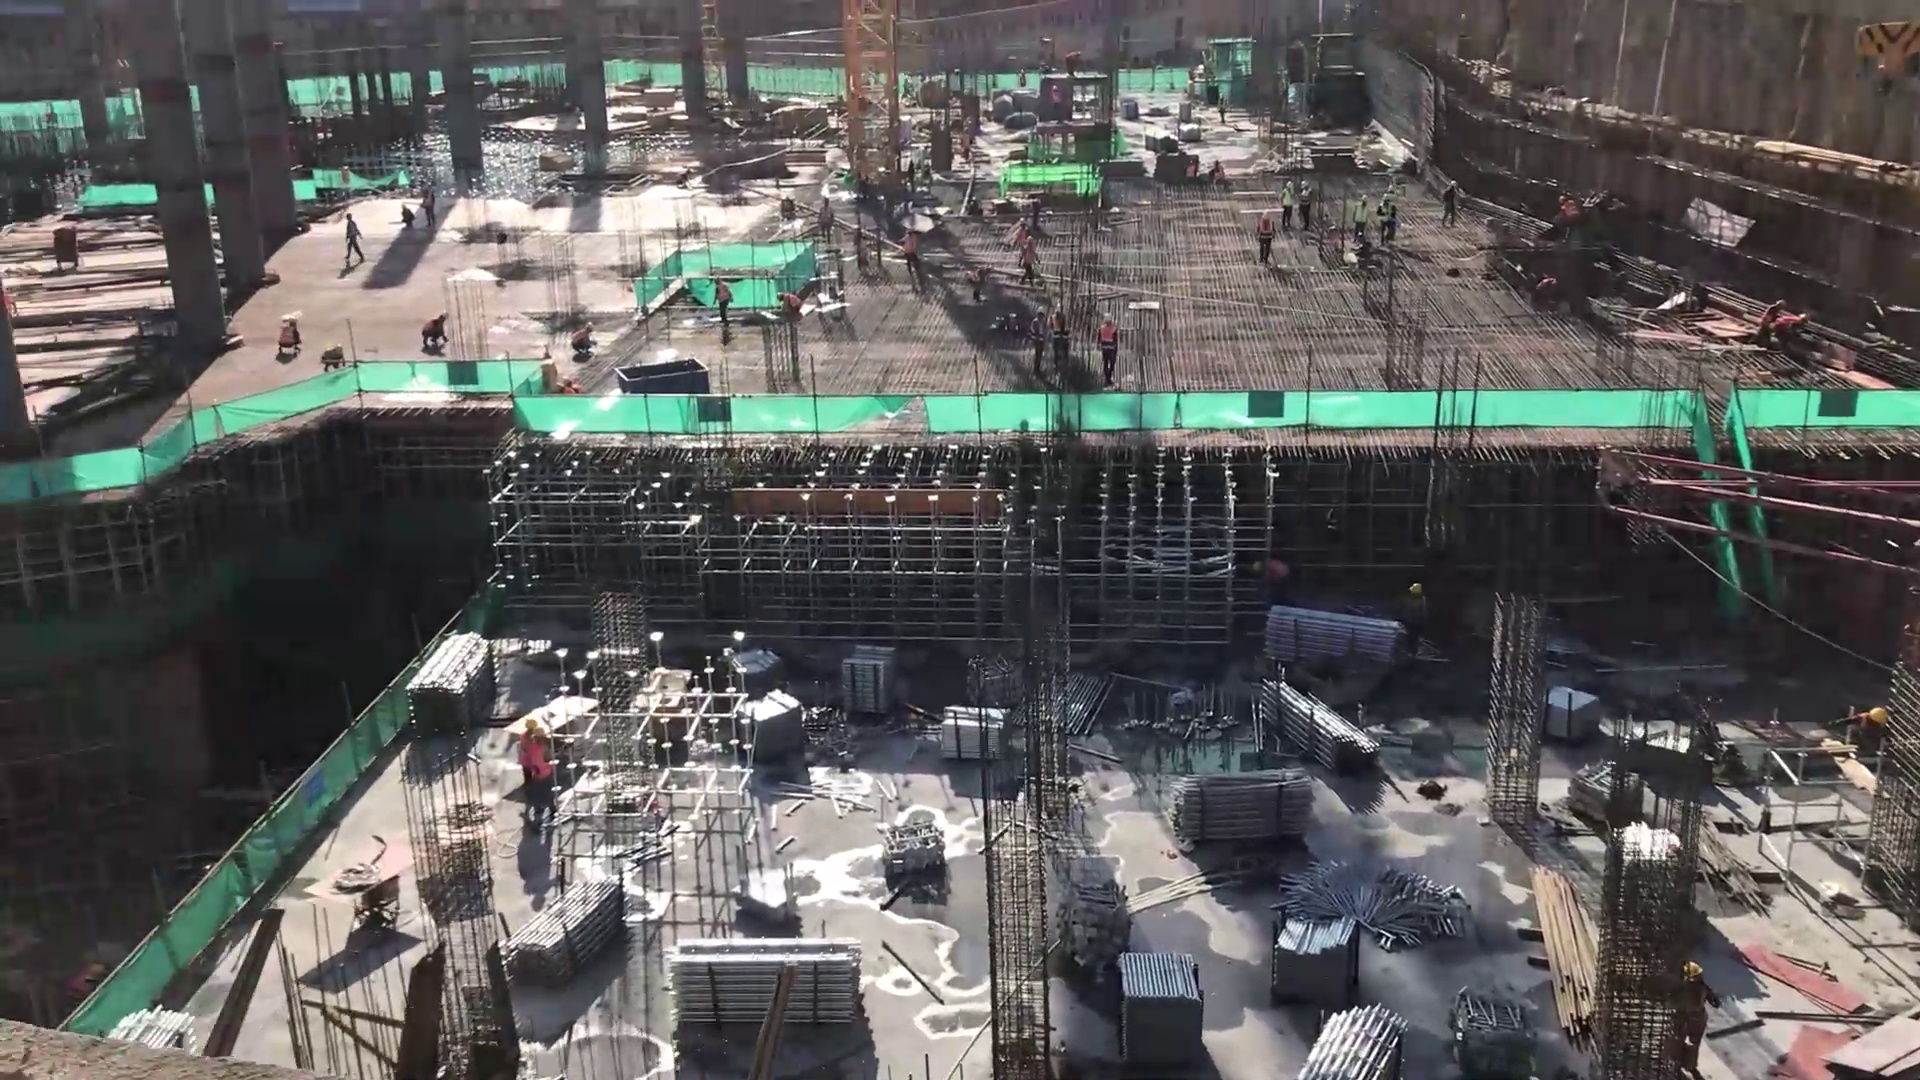helmet: (524, 715, 551, 743), (1680, 955, 1705, 985), (1866, 704, 1889, 728), (1407, 577, 1425, 600), (1034, 303, 1047, 320), (1796, 311, 1810, 326), (1099, 312, 1114, 326), (1259, 208, 1274, 221), (1447, 176, 1458, 190), (1053, 304, 1066, 319), (439, 308, 451, 323), (1379, 192, 1393, 204), (1359, 190, 1371, 203), (585, 319, 595, 333), (1775, 299, 1786, 311), (1283, 179, 1295, 190), (1301, 179, 1309, 190)
person: (511, 709, 563, 833), (1829, 704, 1890, 761), (1091, 310, 1123, 392), (1750, 295, 1789, 348), (340, 207, 370, 273), (1048, 303, 1074, 383), (565, 316, 603, 367), (1770, 310, 1815, 352), (1025, 301, 1049, 379), (416, 307, 454, 353), (271, 311, 306, 361), (1252, 206, 1279, 268), (710, 272, 737, 332), (1014, 233, 1043, 290), (898, 223, 925, 278), (771, 287, 807, 328), (1437, 175, 1462, 233), (1374, 189, 1399, 246), (1347, 191, 1372, 249), (1275, 177, 1299, 234), (417, 181, 442, 230), (815, 192, 838, 245), (1296, 177, 1314, 235), (394, 199, 419, 232), (320, 341, 347, 371)
vest: (520, 737, 556, 783), (1855, 711, 1882, 743), (1050, 317, 1073, 350), (1097, 325, 1118, 355), (1776, 313, 1801, 335), (714, 283, 732, 308), (1256, 219, 1274, 242), (1028, 319, 1046, 344), (278, 326, 297, 348), (1760, 303, 1774, 332), (1380, 206, 1397, 225), (784, 292, 801, 311), (1280, 190, 1295, 210), (1298, 189, 1312, 208), (1355, 202, 1368, 226)
